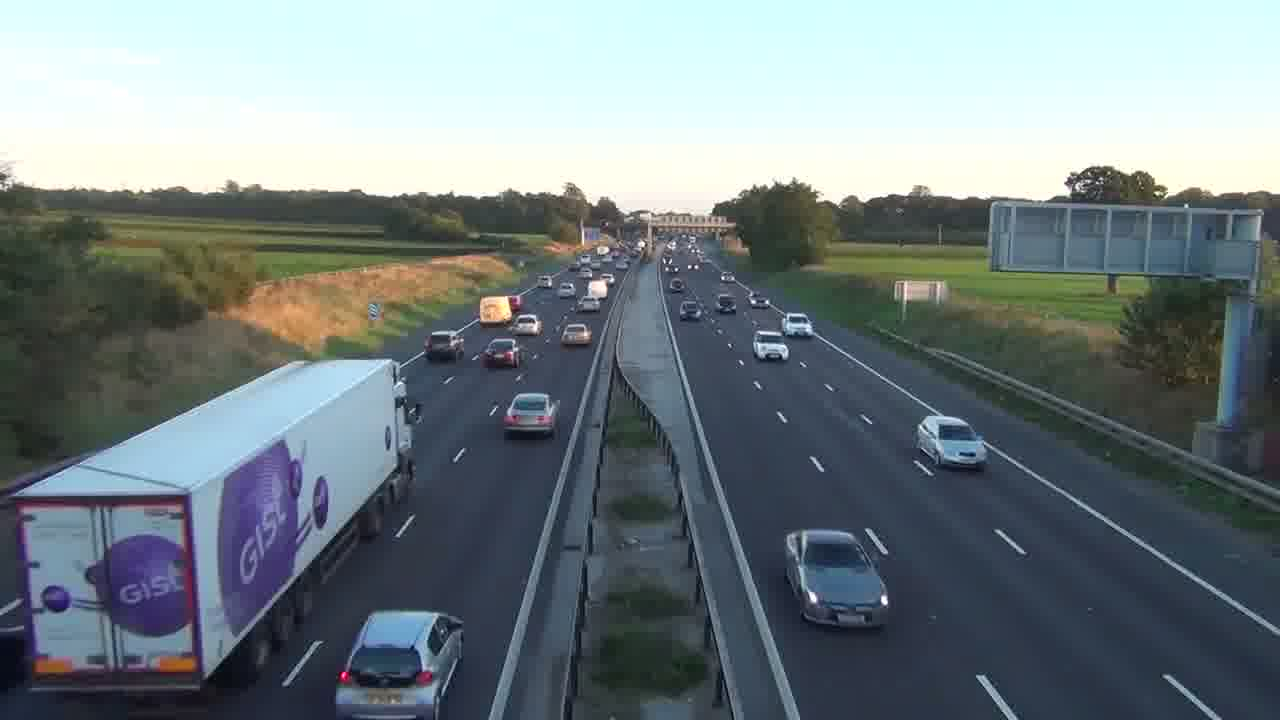car: (335, 609, 466, 718), (783, 528, 892, 629), (912, 414, 990, 473), (504, 391, 560, 439), (480, 336, 520, 370), (752, 330, 790, 362), (559, 320, 593, 347), (508, 313, 543, 336)
truck: (1, 356, 416, 701)
